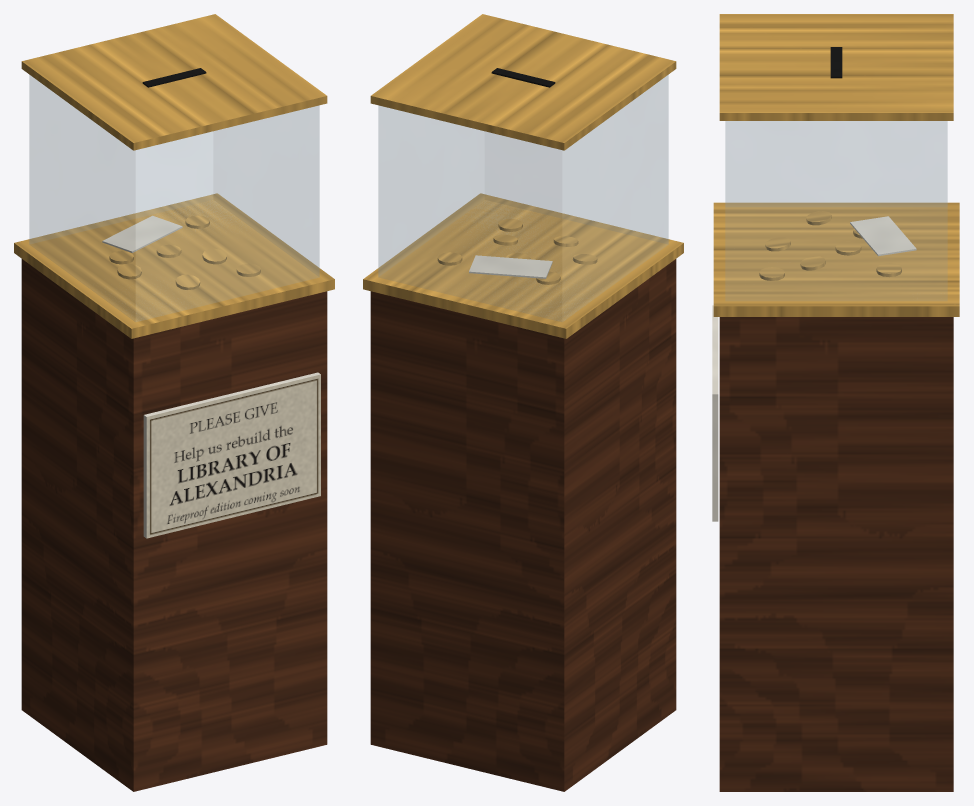
The model's file is donation_box.gltf.
The picture shows the model from 3 angles, left to right: view 1: azimuth 30°, elevation 25°; view 2: azimuth 150°, elevation 25°; view 3: azimuth 270°, elevation 25°; orthographic projection. The views are drawn at different scales.
Parts seen in each view (by area): view 1: DonationBox; view 2: DonationBox; view 3: DonationBox.
Boxes of the visible parts, x1,y1,x2,y2 form: DonationBox: (14, 14, 334, 791); DonationBox: (363, 14, 683, 791); DonationBox: (712, 14, 959, 791).
Bounding box in the file's own units: 0.42 × 1.28 × 0.422.
Materials: 4 (4 with a texture image).
